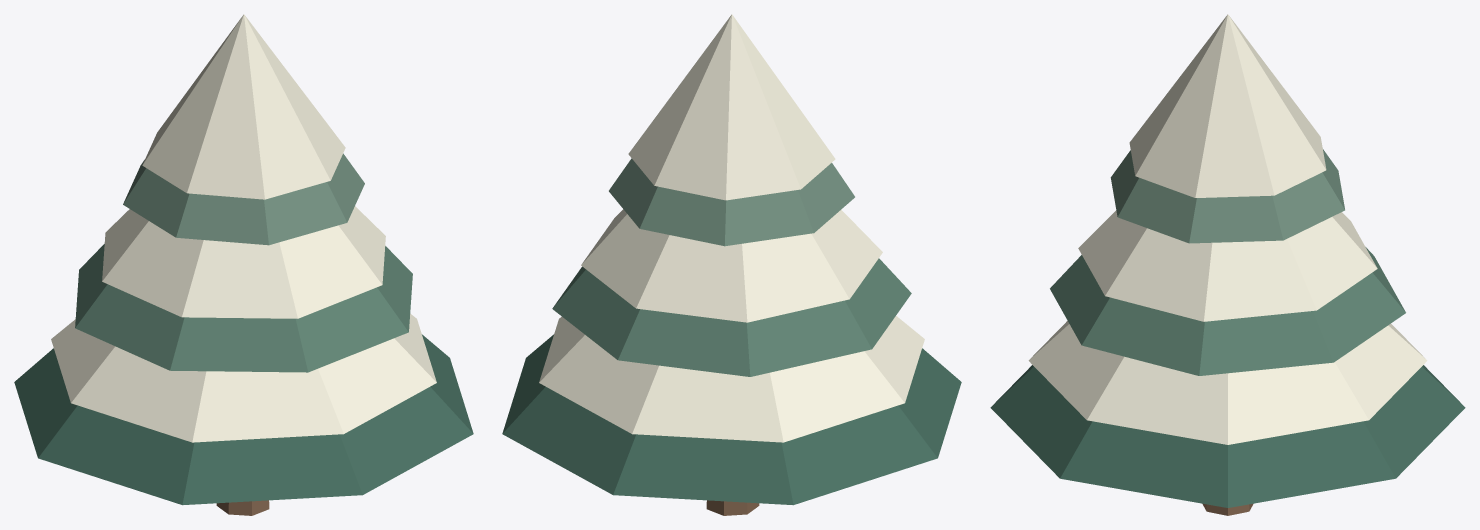
File: pine-round.glb
3 renders of one model, left to right at view 1: azimuth 30°, elevation 25°; view 2: azimuth 150°, elevation 25°; view 3: azimuth 270°, elevation 25°, orthographic.
Parts seen in each view (by area): view 1: pine-round; view 2: pine-round; view 3: pine-round.
Boxes of the visible parts, <box> form: pine-round: <box>14,14,473,515</box>; pine-round: <box>502,14,961,515</box>; pine-round: <box>990,14,1465,515</box>.
Size of the model in its own units: 3.3 by 3.76 by 3.3.
